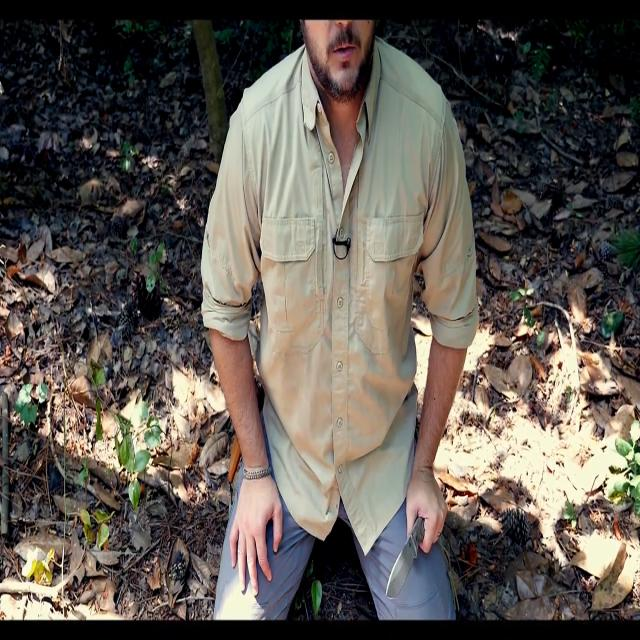knife: (384, 520, 424, 608)
